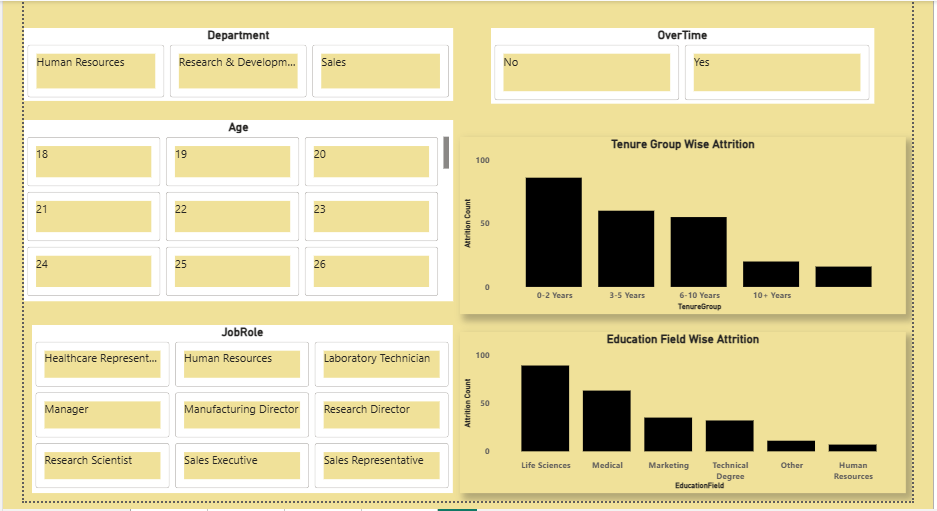

The page's visual inventory and layout, read from the dashboard file:
{"tool":"powerbi","page":{"name":"Page 2","canvas":[1280,720],"ordinal":1},"visuals":[{"type":"clusteredColumnChart","title":"Education Field Wise Attrition","fields":{"Category":["Palo_Alto_Cleaned.EducationField"],"Y":["Palo_Alto_Cleaned.Attrition Count"]},"box":[627.8,476.6,642.2,231.8],"z":2000},{"type":"clusteredColumnChart","title":"Tenure Group Wise Attrition","fields":{"Category":["Palo_Alto_Cleaned.TenureGroup"],"Y":["Palo_Alto_Cleaned.Attrition Count"]},"box":[627.8,195.8,642.2,254.9],"z":3000},{"type":"advancedSlicerVisual","fields":{"Values":["Palo_Alto_Cleaned.Department"]},"box":[0,38.9,617.8,105.1],"z":3001},{"type":"advancedSlicerVisual","fields":{"Values":["Palo_Alto_Cleaned.JobRole"]},"box":[11.5,466.6,606.2,241.9],"z":3002},{"type":"advancedSlicerVisual","fields":{"Values":["Palo_Alto_Cleaned.Age"]},"box":[0,171.4,617.8,260.6],"z":3003},{"type":"advancedSlicerVisual","fields":{"Values":["Palo_Alto_Cleaned.OverTime"]},"box":[672.5,38.9,551.5,109.4],"z":3004}]}

Visuals, with their boxes on the page's 1280x720 design canvas (x1, y1, x2, y2). These are canvas units, not pixel positions in the 937x511 screenshot, which may show the page scaled, cropped or inside an application window:
"Education Field Wise Attrition" clusteredColumnChart: select_region(628, 477, 1270, 708)
"Tenure Group Wise Attrition" clusteredColumnChart: select_region(628, 196, 1270, 451)
advancedSlicerVisual - Palo_Alto_Cleaned.Department: select_region(0, 39, 618, 144)
advancedSlicerVisual - Palo_Alto_Cleaned.JobRole: select_region(12, 467, 618, 708)
advancedSlicerVisual - Palo_Alto_Cleaned.Age: select_region(0, 171, 618, 432)
advancedSlicerVisual - Palo_Alto_Cleaned.OverTime: select_region(672, 39, 1224, 148)
